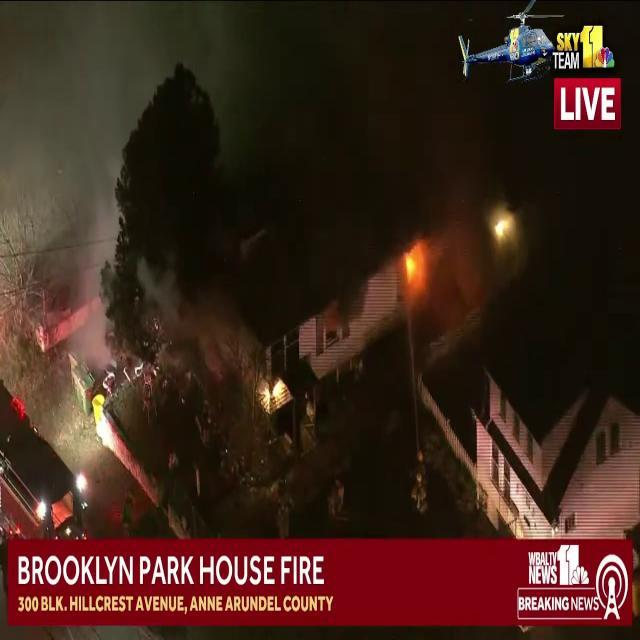Smoke: (0, 0, 123, 364)
